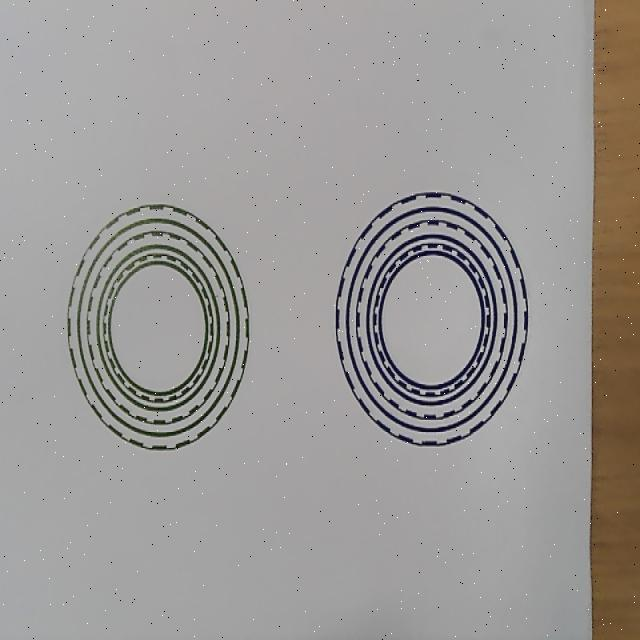b: (335, 192, 529, 449)
g: (67, 203, 250, 454)
